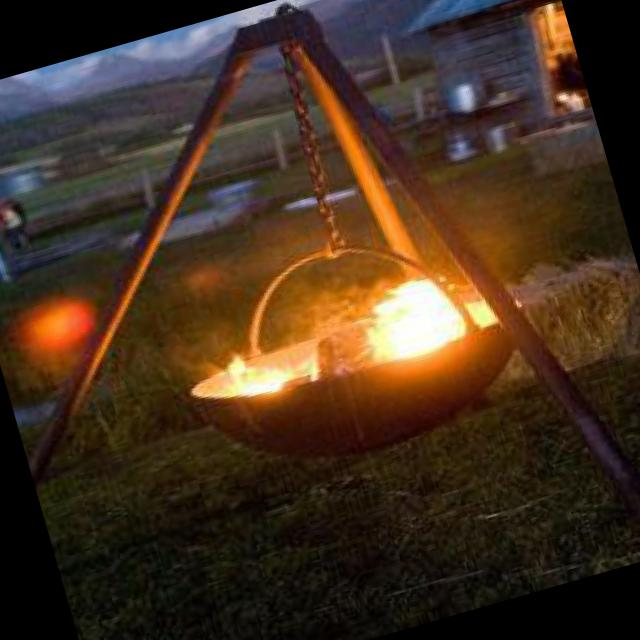fire: (202, 253, 470, 415)
